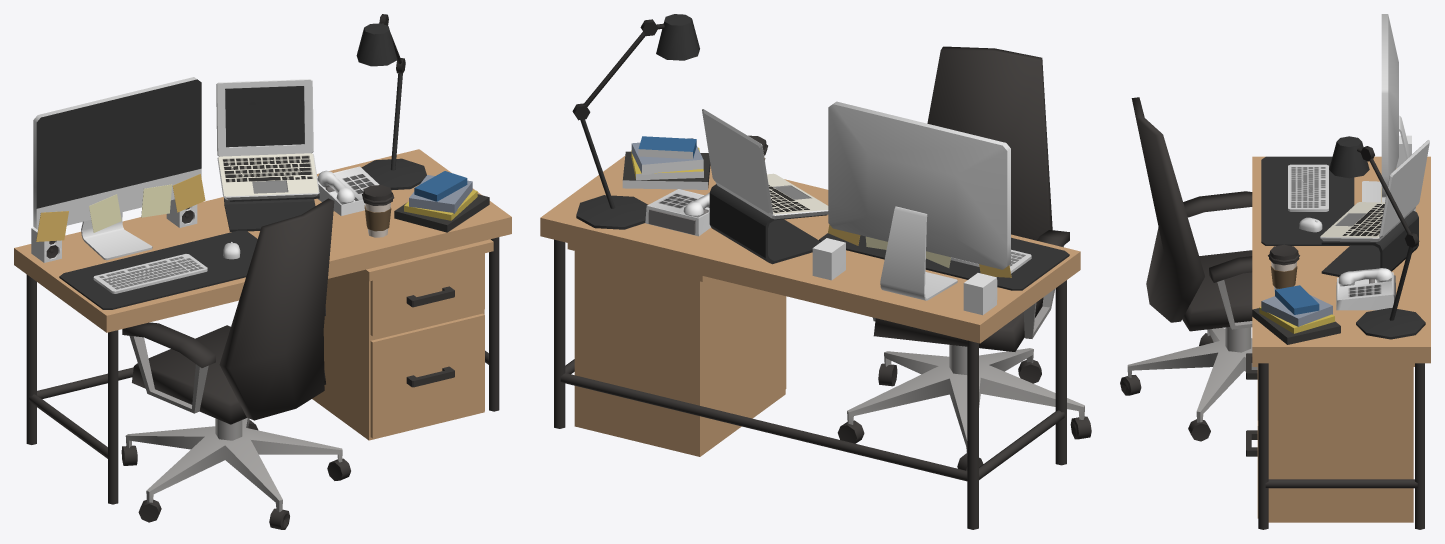
The model's file is Group_desk_04.FBX.
3 views of the same model, side by side, from view 1: azimuth 30°, elevation 25°; view 2: azimuth 150°, elevation 25°; view 3: azimuth 270°, elevation 25° (orthographic). The views are drawn at different scales.
Parts seen in each view (by area): view 1: chair_01, desk_01, monitor_01, drawer02, drawer03, notebook01, drawer01, desk pad_01, notebook02, books_01, keyboard_01, desk stand02 (+10 smaller); view 2: desk_01, drawer03, chair_01, monitor_01, notebook_01, books_01, notebook01, desk stand02, desk pad_01, telephone01, notebook02, desk stand01 (+2 smaller); view 3: drawer03, desk_01, chair_01, desk pad_01, books_01, monitor_01, desk stand02, notebook_01, notebook01, keyboard_01, notebook02, telephone01 (+4 smaller).
Boxes of the visible parts, x1,y1,x2,y2 form: chair_01: [121, 198, 350, 529]; desk_01: [14, 149, 511, 504]; monitor_01: [33, 77, 201, 260]; drawer02: [370, 313, 484, 438]; drawer03: [312, 239, 493, 440]; notebook01: [216, 79, 313, 156]; drawer01: [370, 253, 484, 336]; desk pad_01: [59, 230, 257, 309]; notebook02: [217, 153, 319, 200]; books_01: [394, 171, 489, 232]; keyboard_01: [93, 254, 207, 293]; desk stand02: [361, 14, 426, 190]; desk_01: [540, 156, 1080, 529]; drawer03: [567, 243, 785, 456]; chair_01: [837, 46, 1091, 470]; monitor_01: [828, 101, 1010, 300]; notebook_01: [709, 184, 826, 264]; books_01: [622, 136, 710, 189]; notebook01: [702, 109, 773, 215]; desk stand02: [572, 19, 664, 229]; desk pad_01: [819, 233, 1069, 290]; telephone01: [645, 189, 710, 236]; notebook02: [715, 173, 828, 219]; desk stand01: [656, 14, 699, 60]; drawer03: [1252, 363, 1414, 522]; desk_01: [1252, 156, 1430, 529]; chair_01: [1120, 97, 1257, 441]; desk pad_01: [1261, 156, 1354, 245]; books_01: [1252, 285, 1340, 344]; monitor_01: [1362, 14, 1410, 202]; desk stand02: [1356, 146, 1425, 339]; notebook_01: [1321, 210, 1418, 276]; notebook01: [1379, 140, 1429, 237]; keyboard_01: [1288, 164, 1328, 211]; notebook02: [1320, 202, 1415, 241]; telephone01: [1336, 272, 1395, 310].
Bounding box in the file's own units: 168 × 144 × 115.
1 material, 1 textured.
